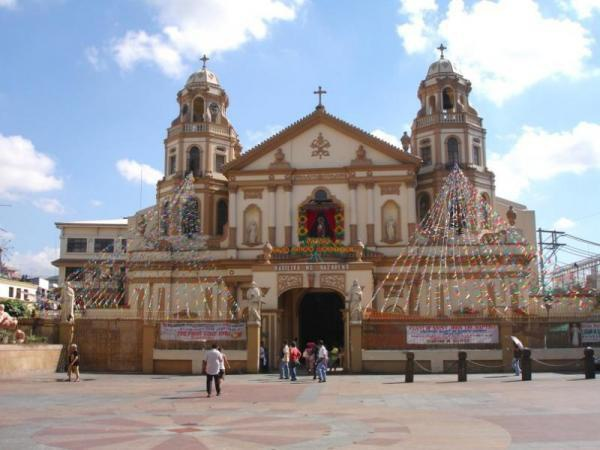quiapo_church_quiapo_manila: (111, 36, 542, 370)
